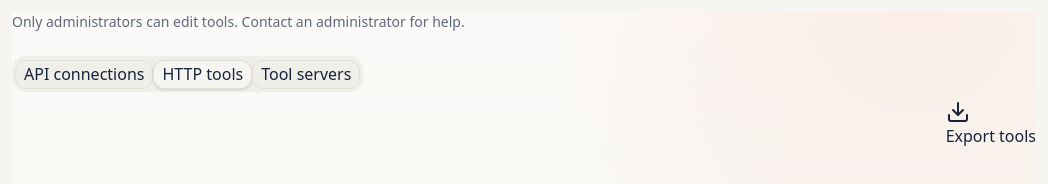
it: ToolsPage › shows an MCP failure reason without mutation actions to a member
Press the mouse on the tab "Tool servers" at (306, 74), box [252, 60, 360, 88]
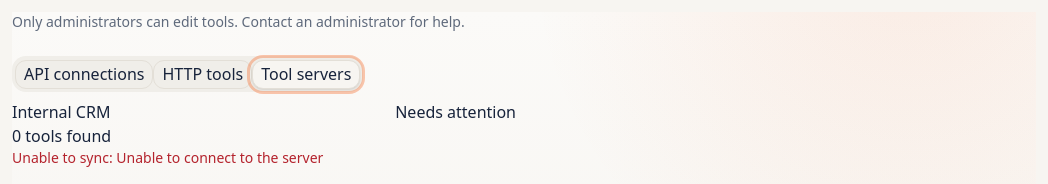
Now the message shows "Unable to connect to the server", box [116, 148, 323, 167]
